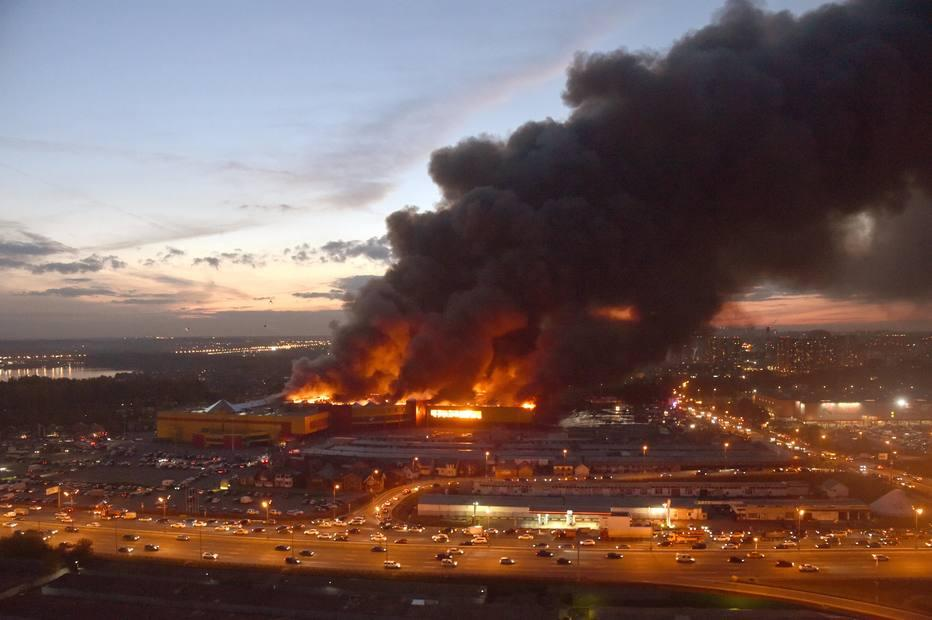fire: (428, 400, 490, 427)
smoke: (422, 170, 720, 365)
